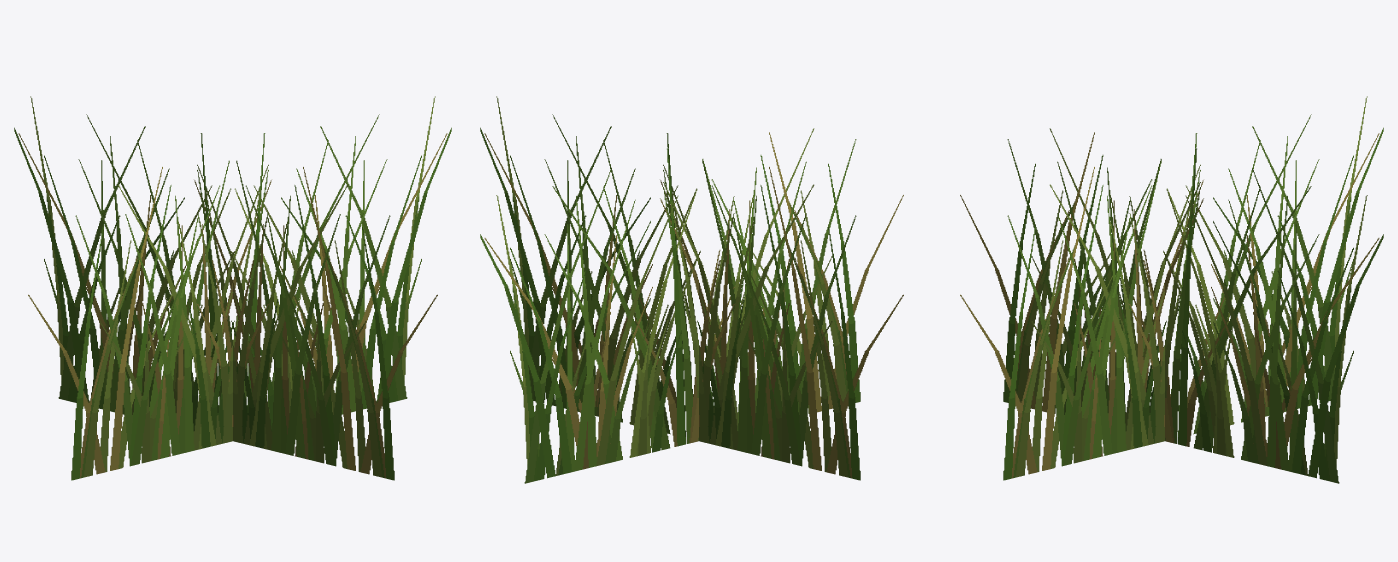
The model's file is grass_clump.glb.
The picture shows the model from 3 angles, left to right: view 1: azimuth 30°, elevation 25°; view 2: azimuth 150°, elevation 25°; view 3: azimuth 270°, elevation 25°; orthographic projection.
Parts seen in each view (by area): view 1: grass_clump; view 2: grass_clump; view 3: grass_clump.
Boxes of the visible parts, left/top/right/bottom form: grass_clump: left=14, top=96, right=451, bottom=480; grass_clump: left=480, top=96, right=903, bottom=483; grass_clump: left=960, top=96, right=1383, bottom=483.
Bounding box in the file's own units: 1 × 0.7 × 0.866.
1 material, 1 textured.
